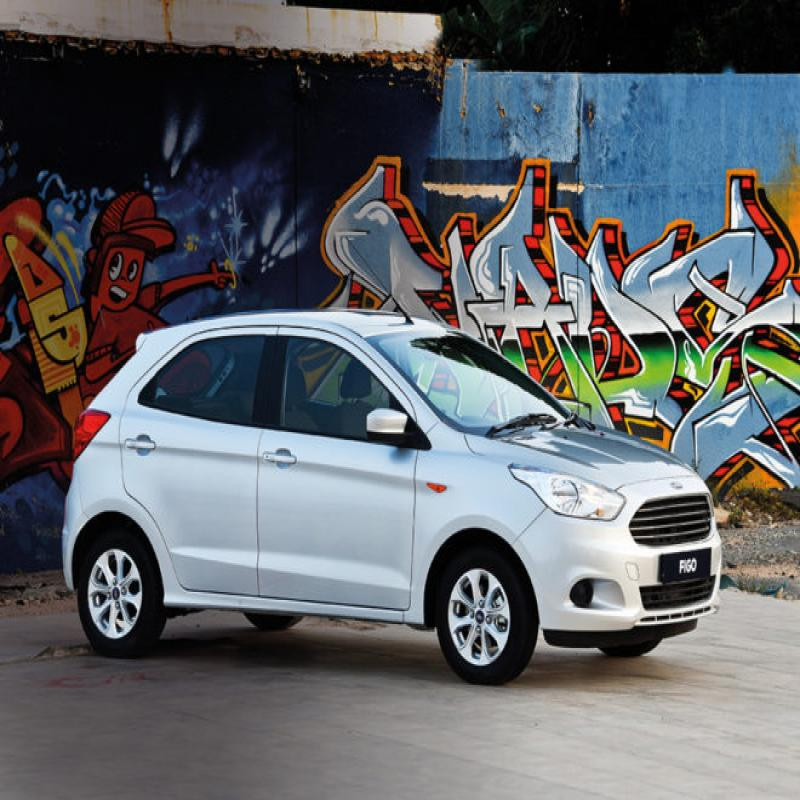car: (35, 284, 736, 718)
